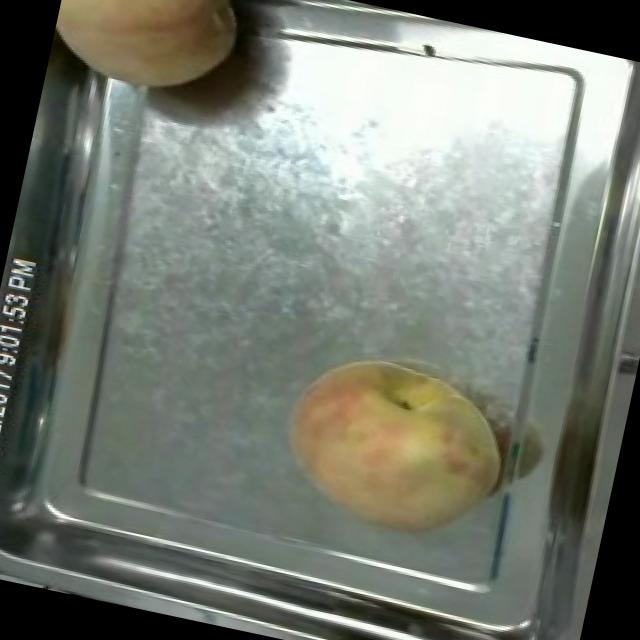Fruit: (264, 337, 522, 558), (44, 0, 257, 118)
